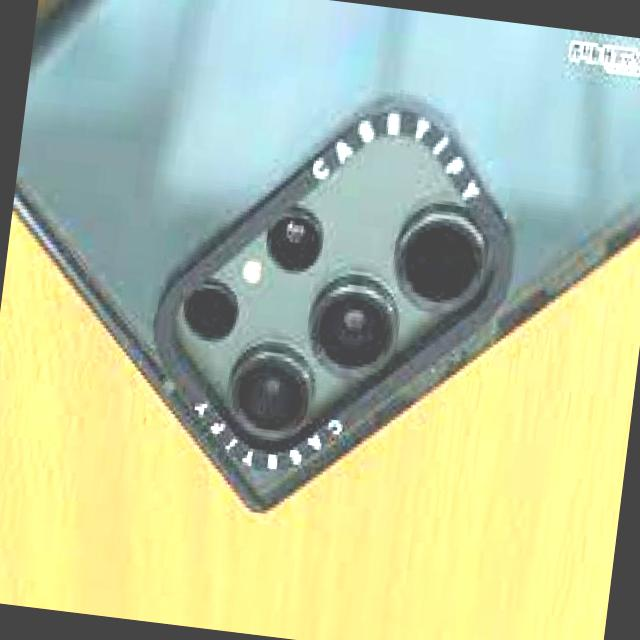lens_back: (377, 192, 510, 330), (289, 269, 422, 397), (218, 331, 330, 446), (252, 186, 328, 276), (164, 268, 239, 352)
